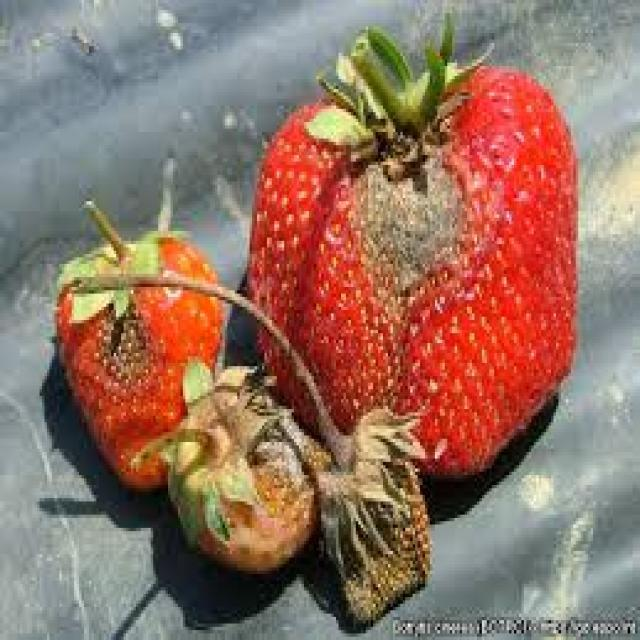Mancha negra Antracnosis: (57, 257, 228, 490)
Moho gris: (273, 88, 572, 484)
Podredumbre de cuero: (175, 384, 314, 578), (312, 430, 451, 616)
